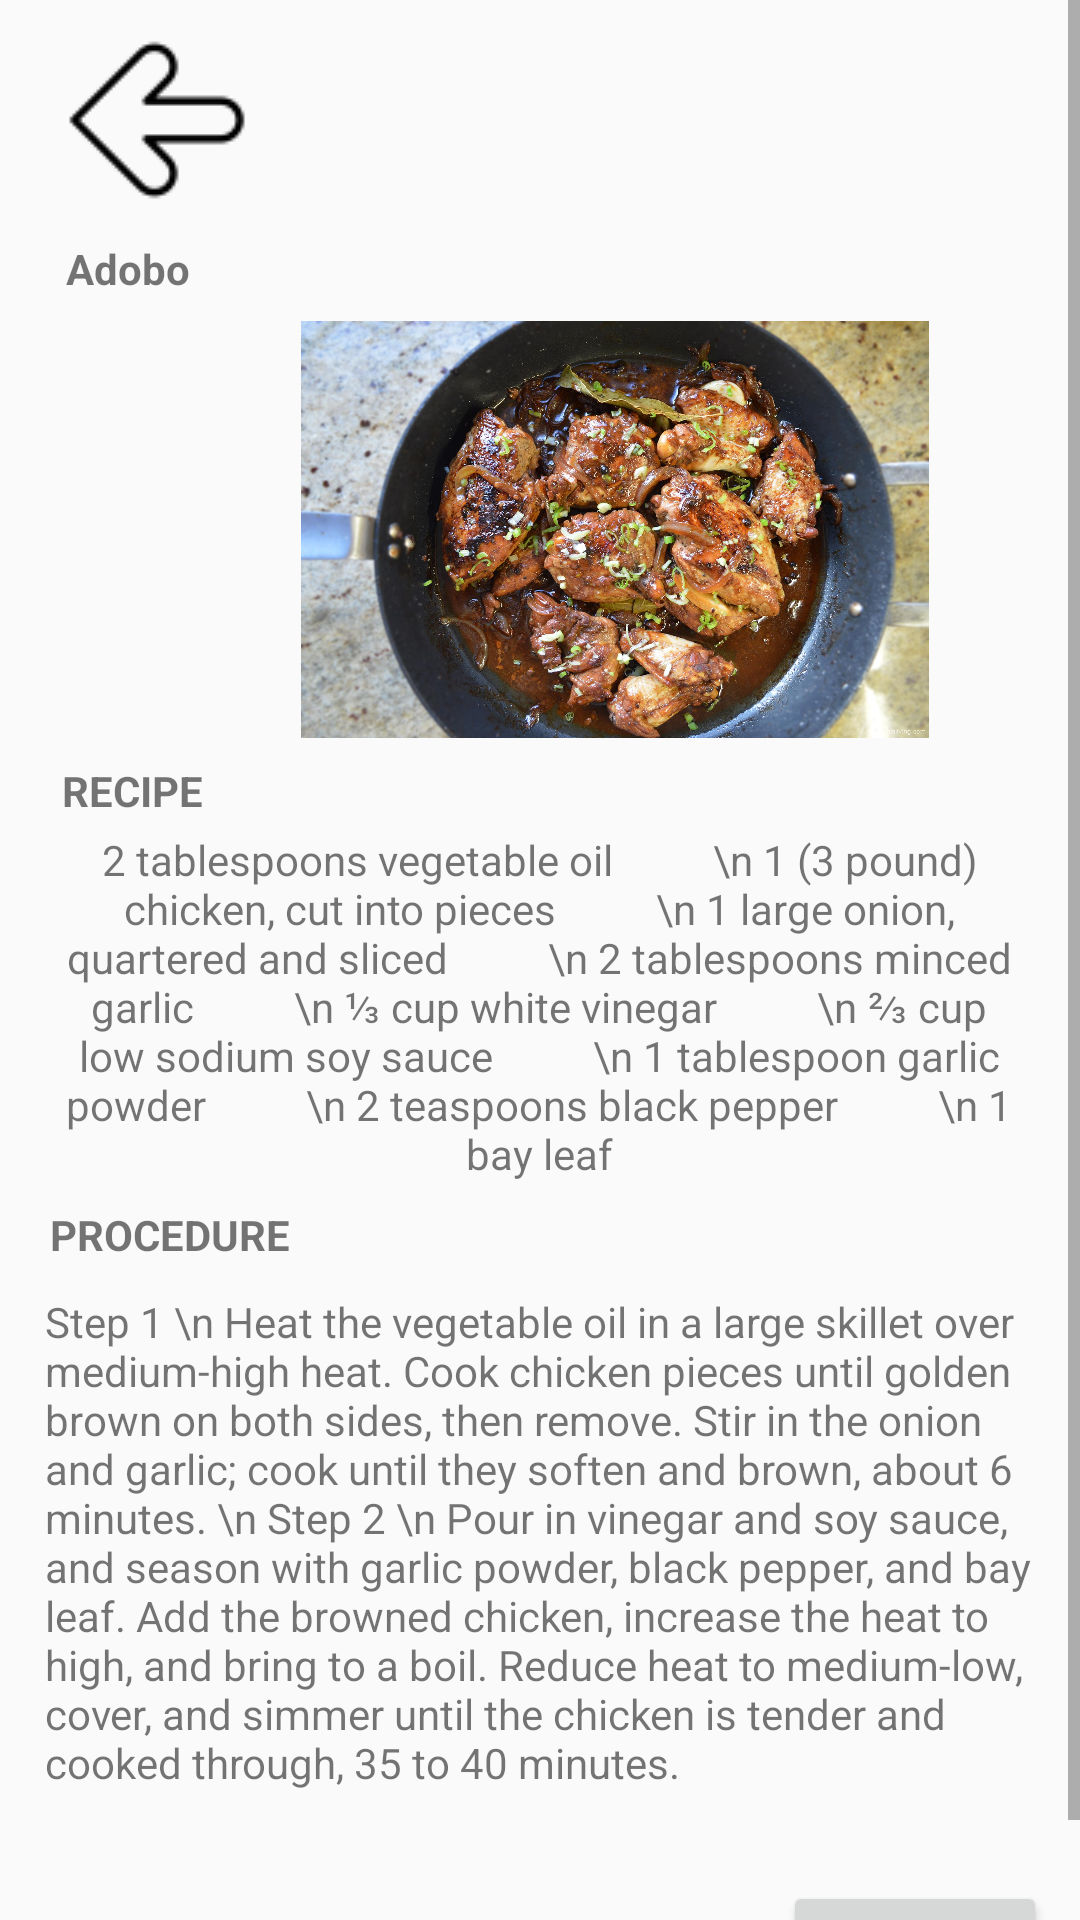

Icons on this 1080px x 1920px Android screen, each with the point to tap as [x,y]:
back: [157,120]
